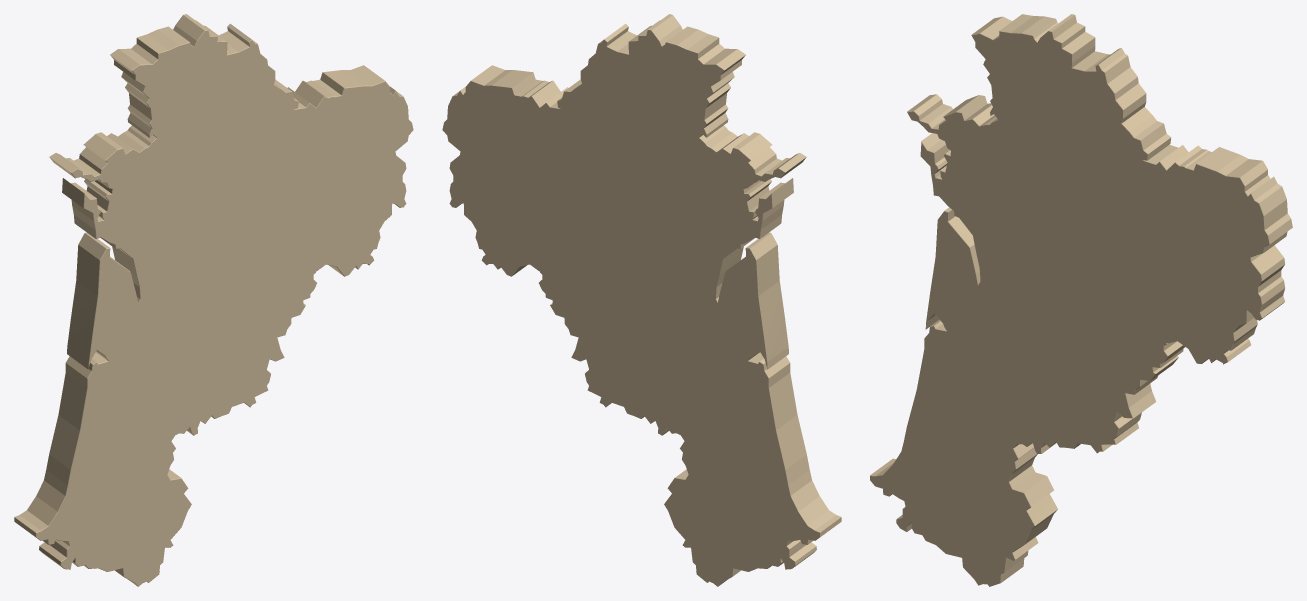
Rendered from NouvelleAquitaine.glb.
The picture shows the model from 3 angles, left to right: view 1: azimuth 30°, elevation 25°; view 2: azimuth 150°, elevation 25°; view 3: azimuth 330°, elevation 25°; orthographic projection. The views are drawn at different scales.
Visible parts, largest first — view 1: Nouvelle-Aquitaine; view 2: Nouvelle-Aquitaine; view 3: Nouvelle-Aquitaine.
Part boxes in pixels (box(x1,y1,x2,y2)): Nouvelle-Aquitaine: box(14, 14, 413, 586); Nouvelle-Aquitaine: box(442, 14, 841, 586); Nouvelle-Aquitaine: box(870, 14, 1292, 586).
Bounding box in the file's own units: 1.29 × 1.76 × 0.1283.
